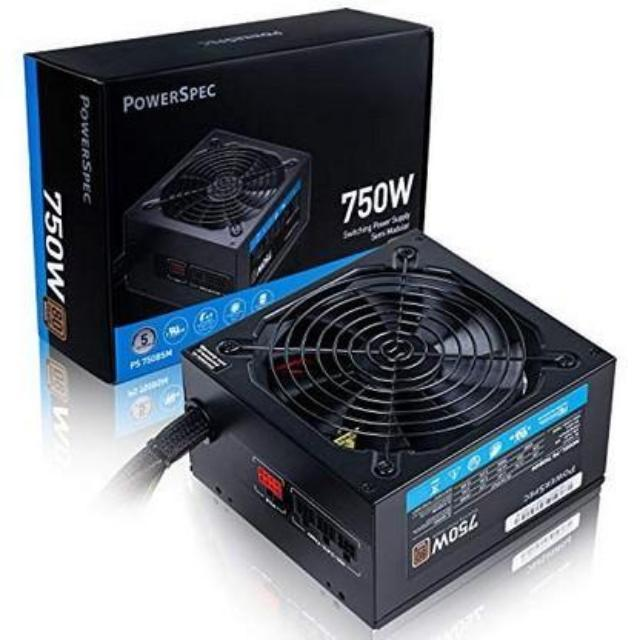PSU: (172, 213, 618, 635)
